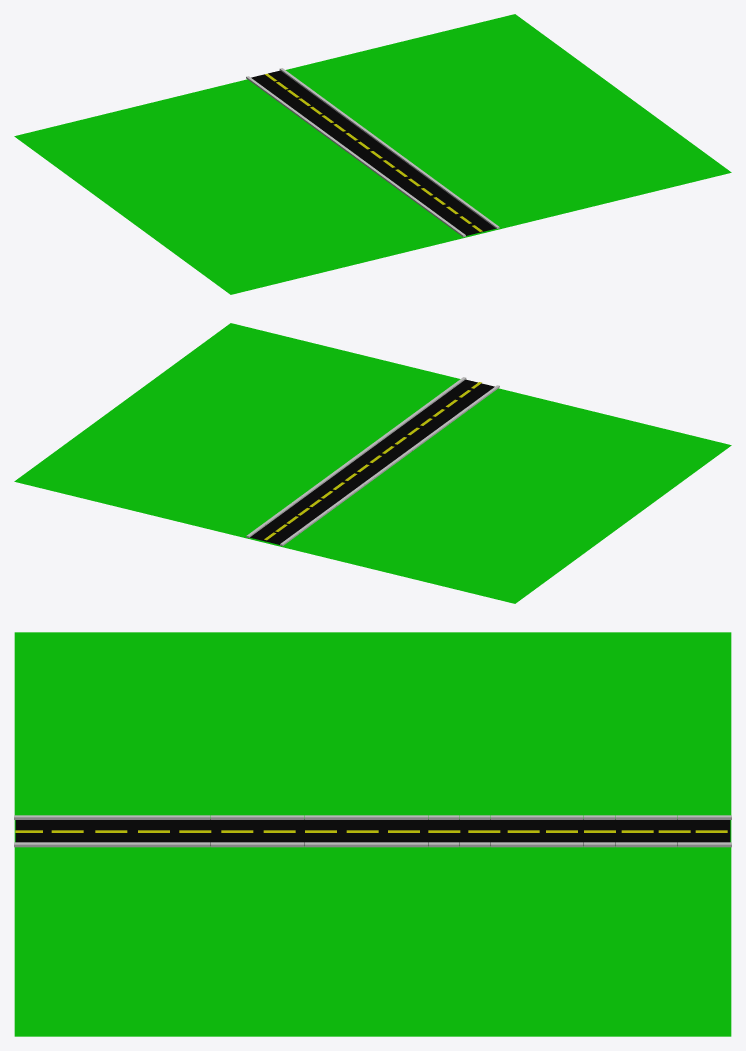
File: Terreno.obj
3 views of the same model, one above another, from view 1: azimuth 30°, elevation 25°; view 2: azimuth 150°, elevation 25°; view 3: azimuth 270°, elevation 25° (orthographic). The views are drawn at different scales.
Visible parts, largest first — view 1: Terreno_Plano, Plano_Plano.001; view 2: Terreno_Plano, Plano_Plano.001; view 3: Terreno_Plano, Plano_Plano.001.
Boxes of the visible parts, x1,y1,x2,y2 form: Terreno_Plano: (14, 14, 731, 294); Plano_Plano.001: (251, 70, 495, 235); Terreno_Plano: (14, 323, 731, 603); Plano_Plano.001: (250, 379, 494, 544); Terreno_Plano: (14, 632, 731, 1036); Plano_Plano.001: (15, 819, 730, 845).
Bounding box in the file's own units: 30.02 × 0.154 × 22.53.
